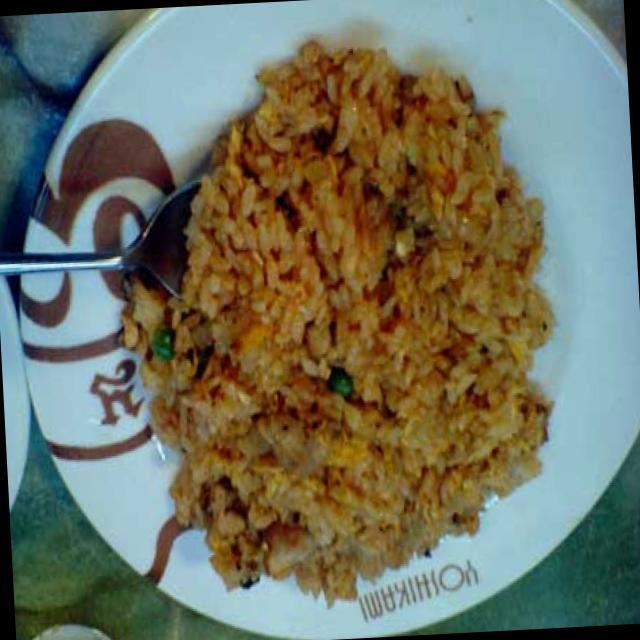Rice: (109, 54, 562, 606)
